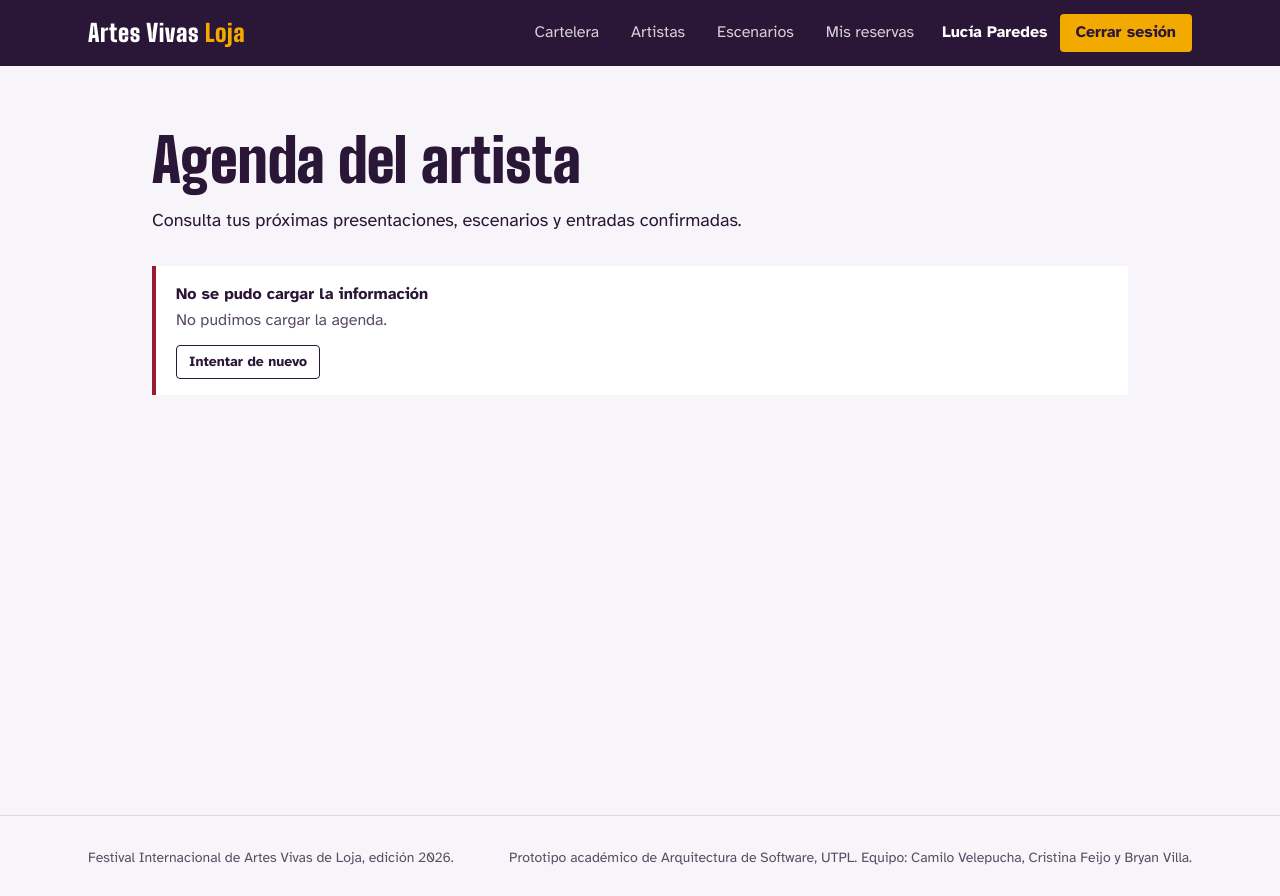
Test: ArtistAgendaPage › muestra el error de API y permite reintentar
Expected: the message shows "No pudimos cargar la agenda.", [176,310,387,330]
Click the button "Intentar de nuevo": (248, 362) [176,345,320,379]
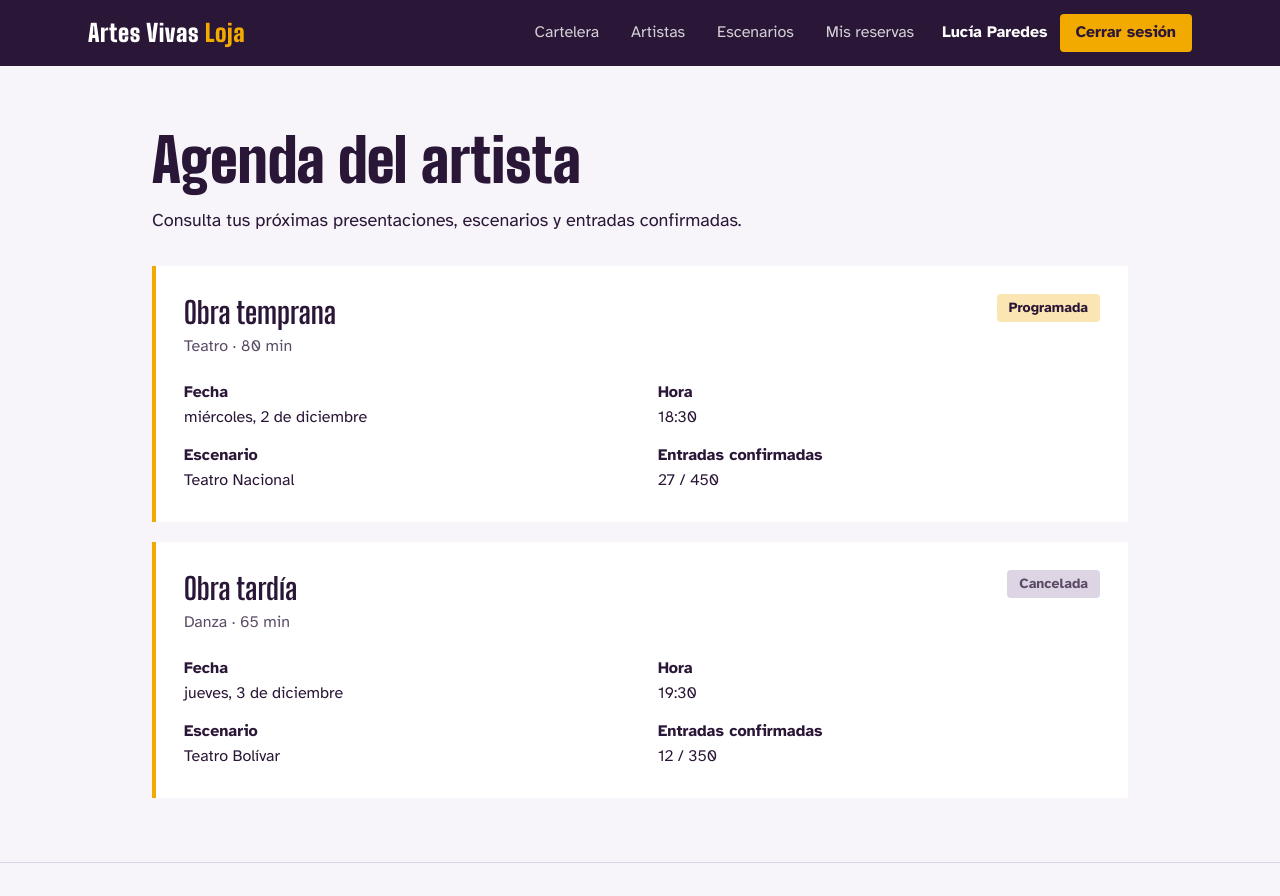
Expected: the heading "Obra temprana" is shown, [184,294,336,330]
